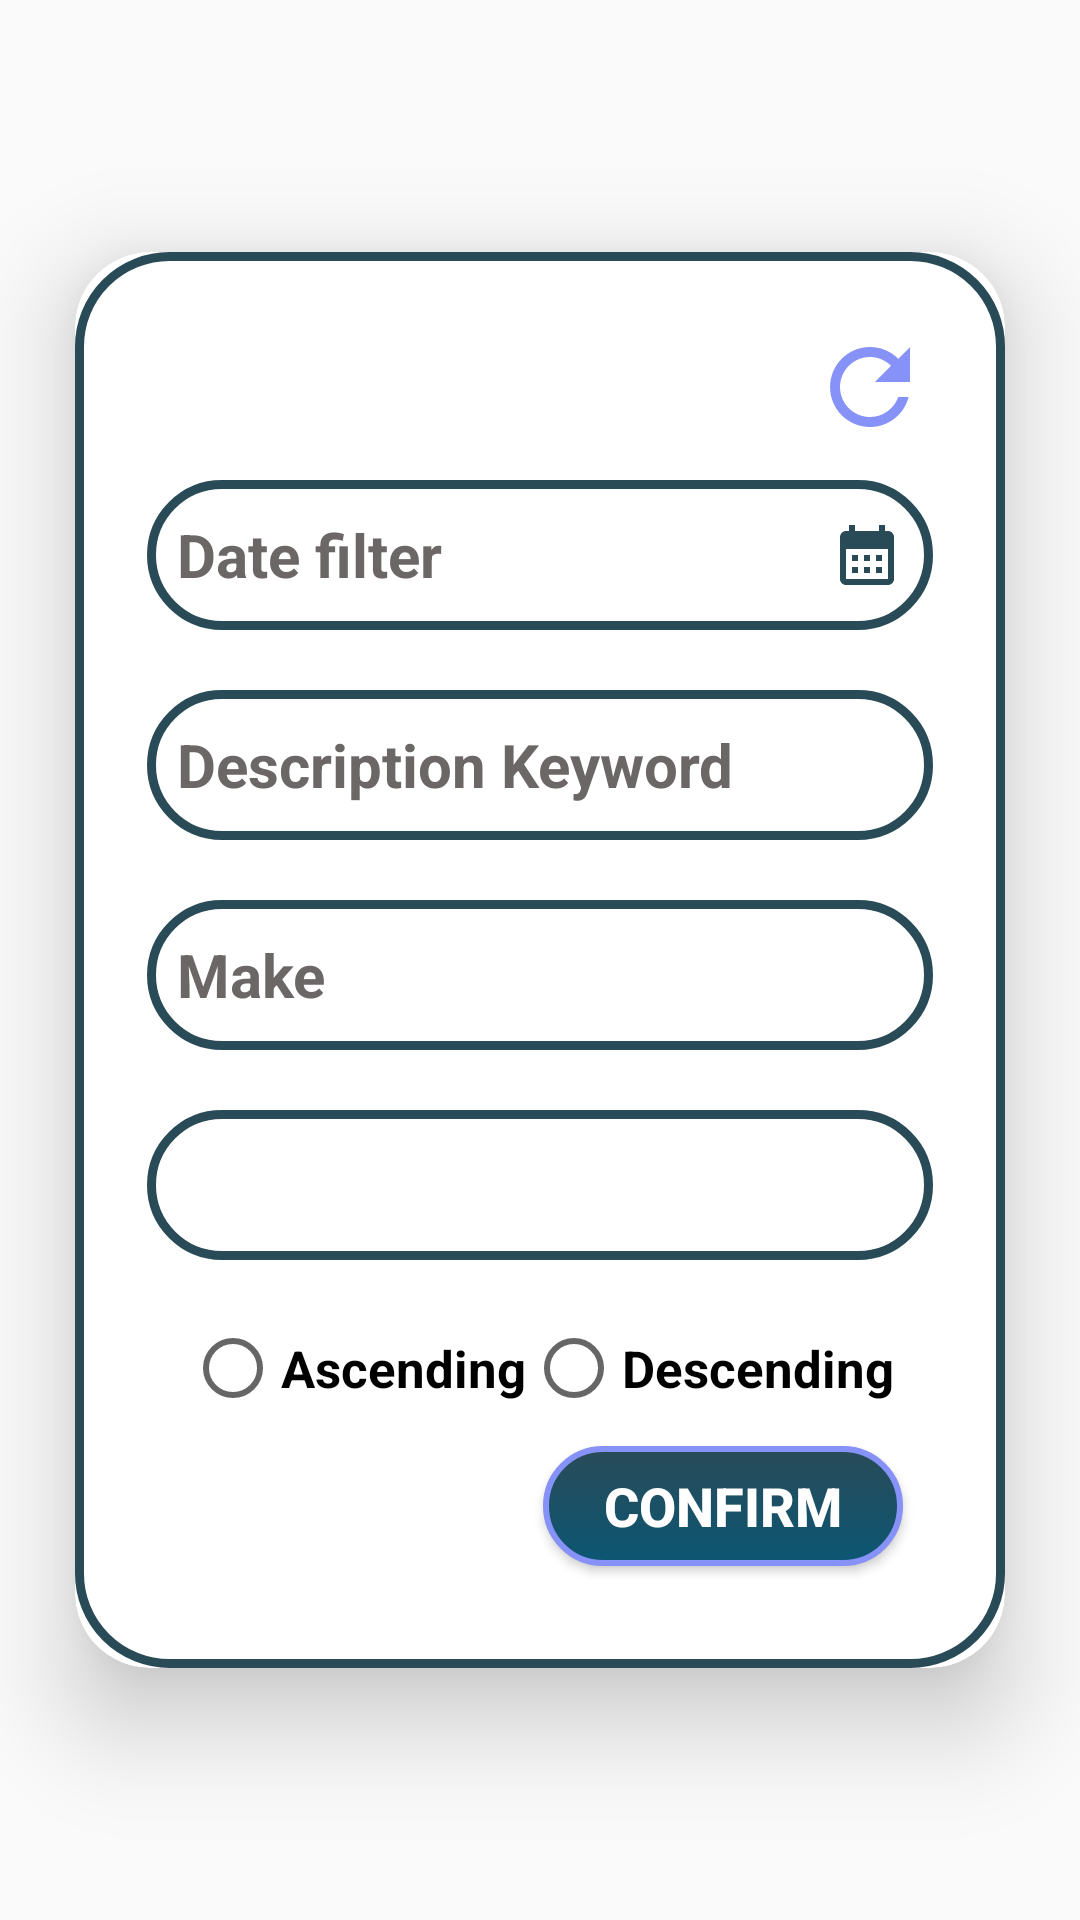

Where icons sit on this 1080 x 1920 app screen, as bbox(x1, y1, x2, y2):
refresh: bbox(830, 347, 910, 427)
